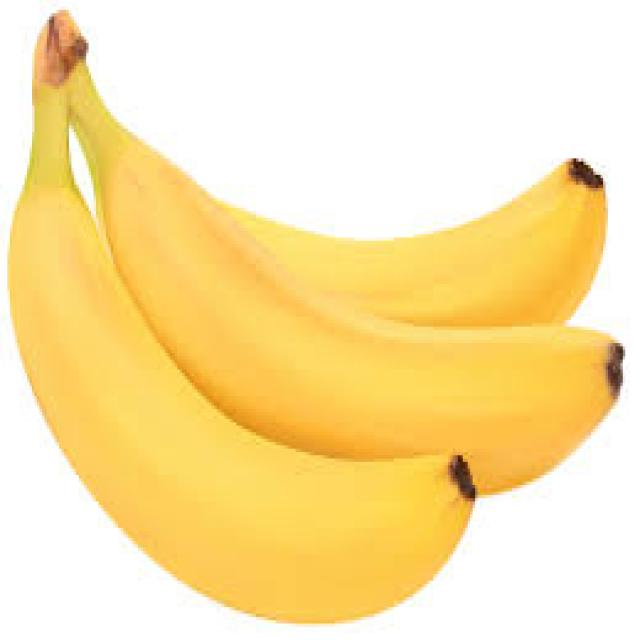banana: (11, 12, 620, 624)
